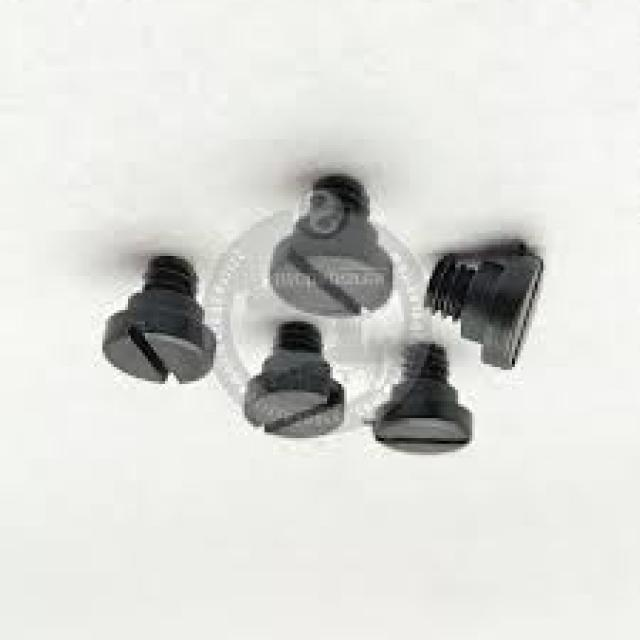duz: (267, 242, 393, 321), (101, 317, 217, 388), (244, 374, 347, 444), (375, 401, 472, 460)
